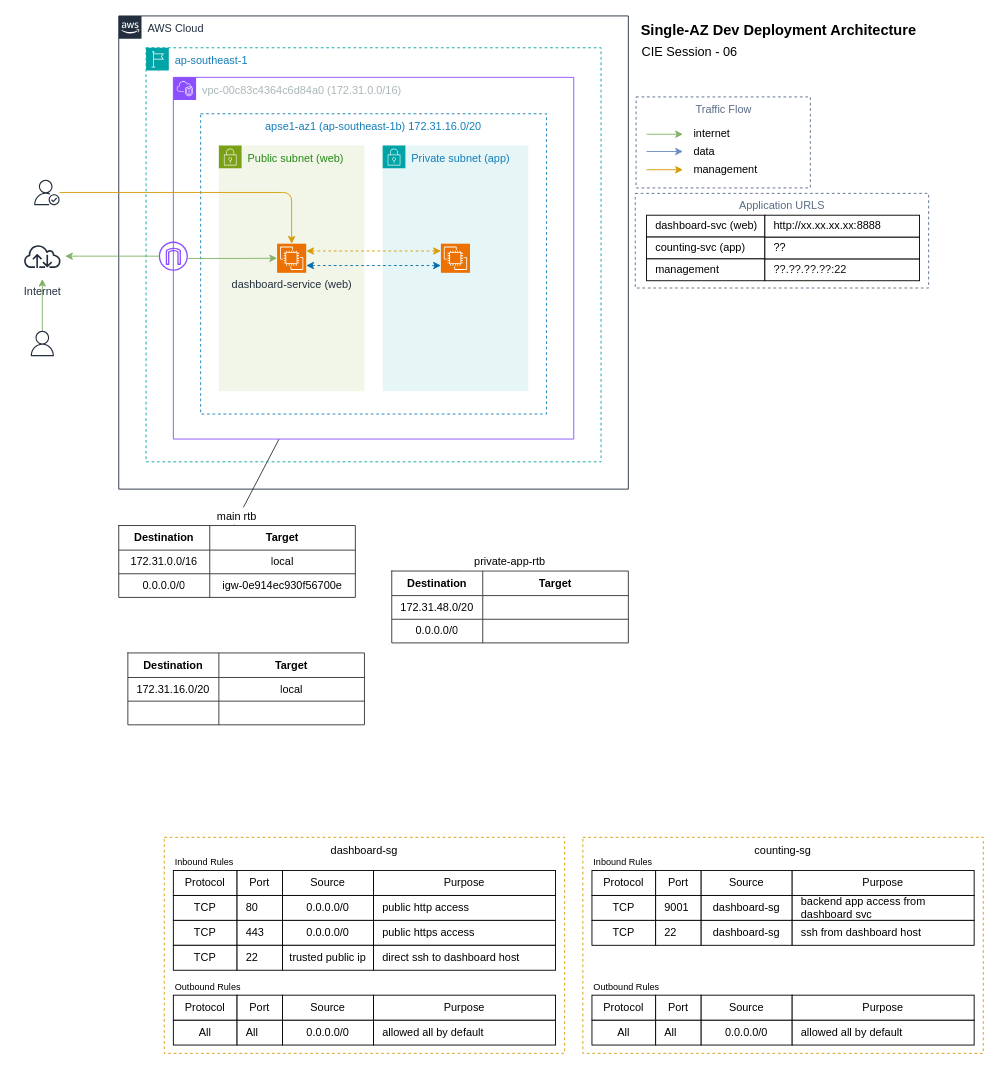
This 999x1069 diagram has some shape labels left out. The centre of each missing label's shape, as x and y in pixels:
administrator: point 46,192
counting-service (app): point 455,258
public-web-rtb: point 245,643
user: point 42,343
